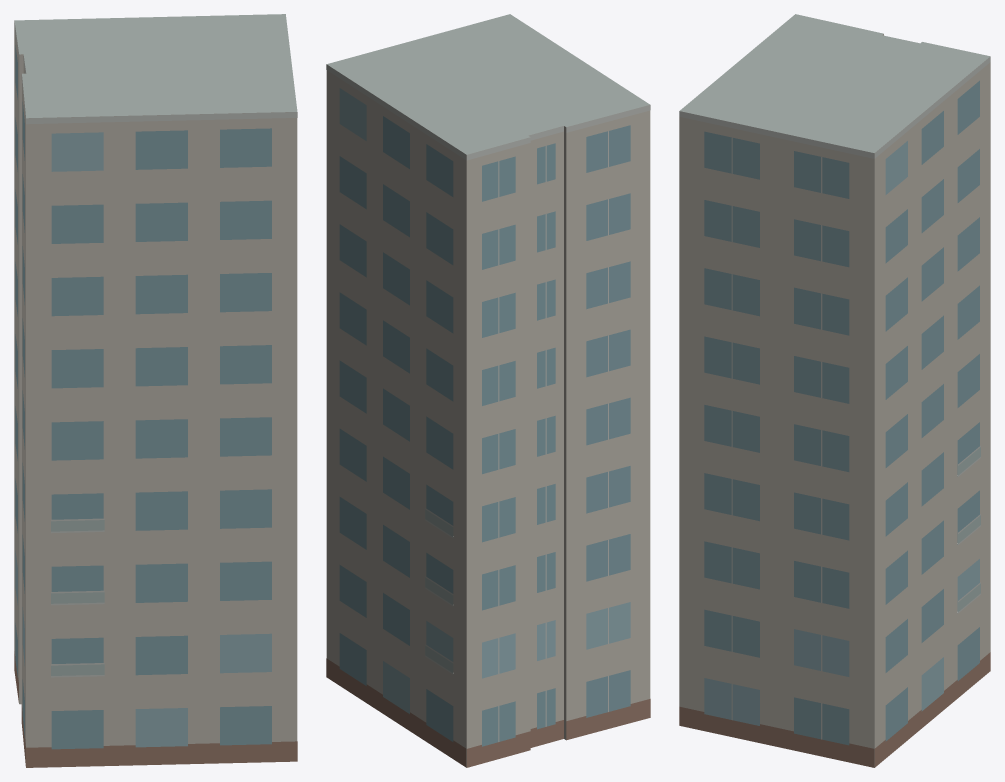
File: survey-upis-32660279.glb
3 renders of one model, left to right at view 1: azimuth 30°, elevation 25°; view 2: azimuth 150°, elevation 25°; view 3: azimuth 270°, elevation 25°, orthographic. The views are drawn at different scales.
Visible parts, largest first — view 1: survey-upis-32660279.tmp; view 2: survey-upis-32660279.tmp; view 3: survey-upis-32660279.tmp.
Boxes of the visible parts, x1,y1,x2,y2 form: survey-upis-32660279.tmp: (14, 14, 297, 767); survey-upis-32660279.tmp: (326, 14, 650, 767); survey-upis-32660279.tmp: (679, 14, 990, 767).
Size of the model in its own units: 12.73 by 26.2 by 12.03.
